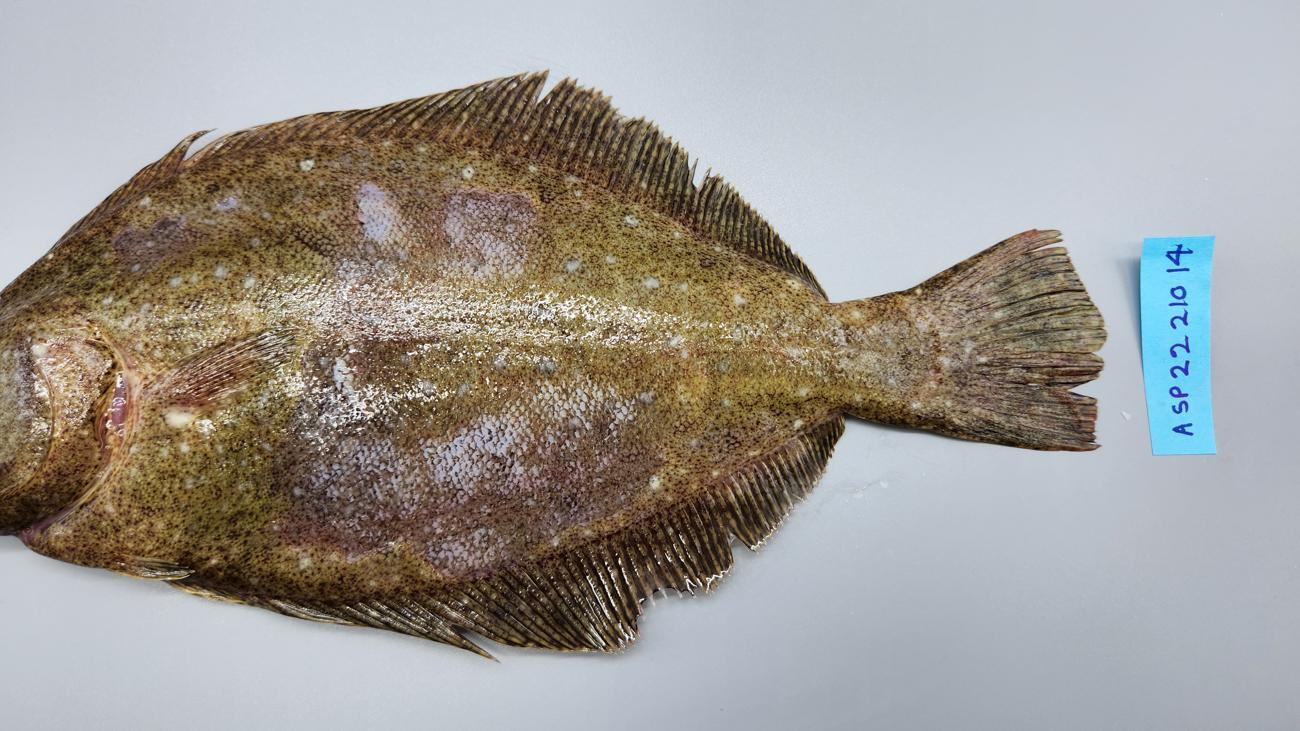SPDYH: (253, 337, 795, 583), (327, 162, 556, 308), (99, 213, 221, 297), (38, 505, 134, 569), (858, 295, 912, 328)
